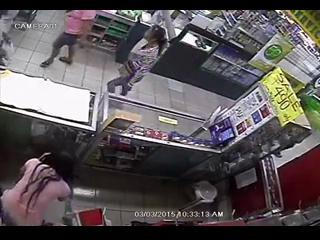Normal: (1, 152, 76, 226), (107, 24, 168, 96), (42, 10, 96, 68)
